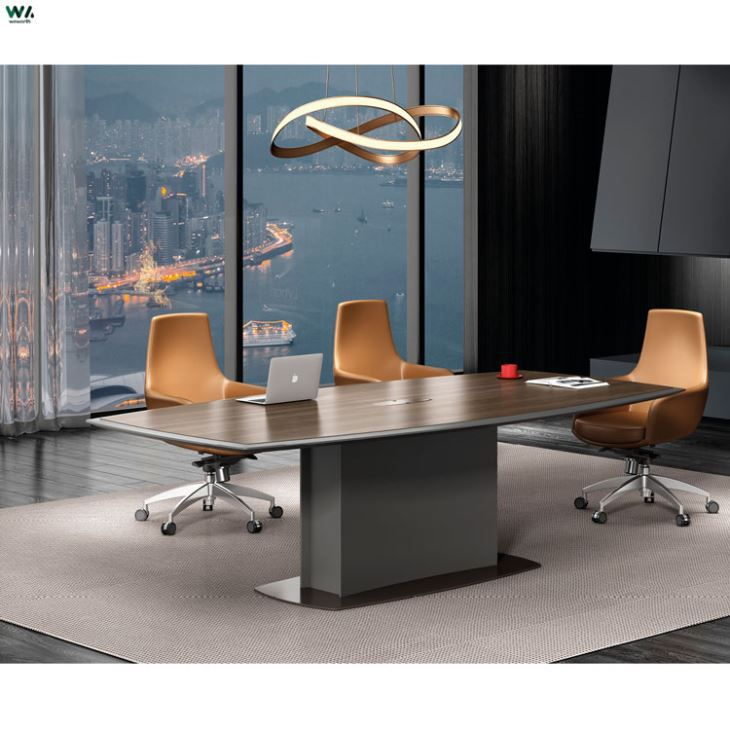conference_table: (86, 365, 686, 608)
